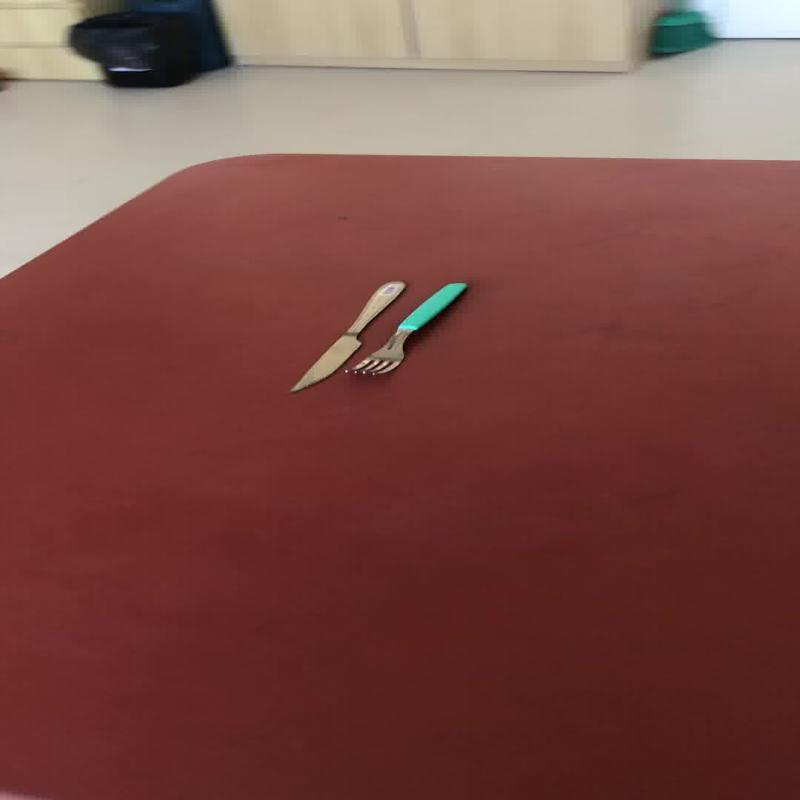fork: (347, 280, 466, 376)
knife: (287, 279, 405, 393)
